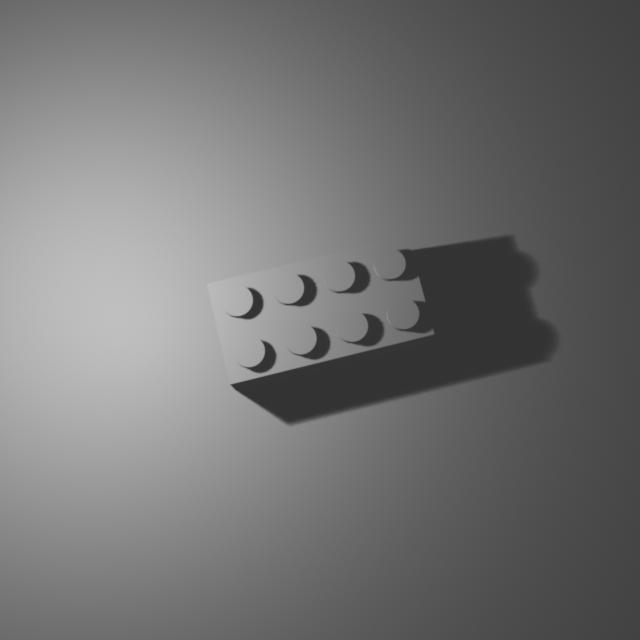lego_2x4: (205, 233, 436, 391)
